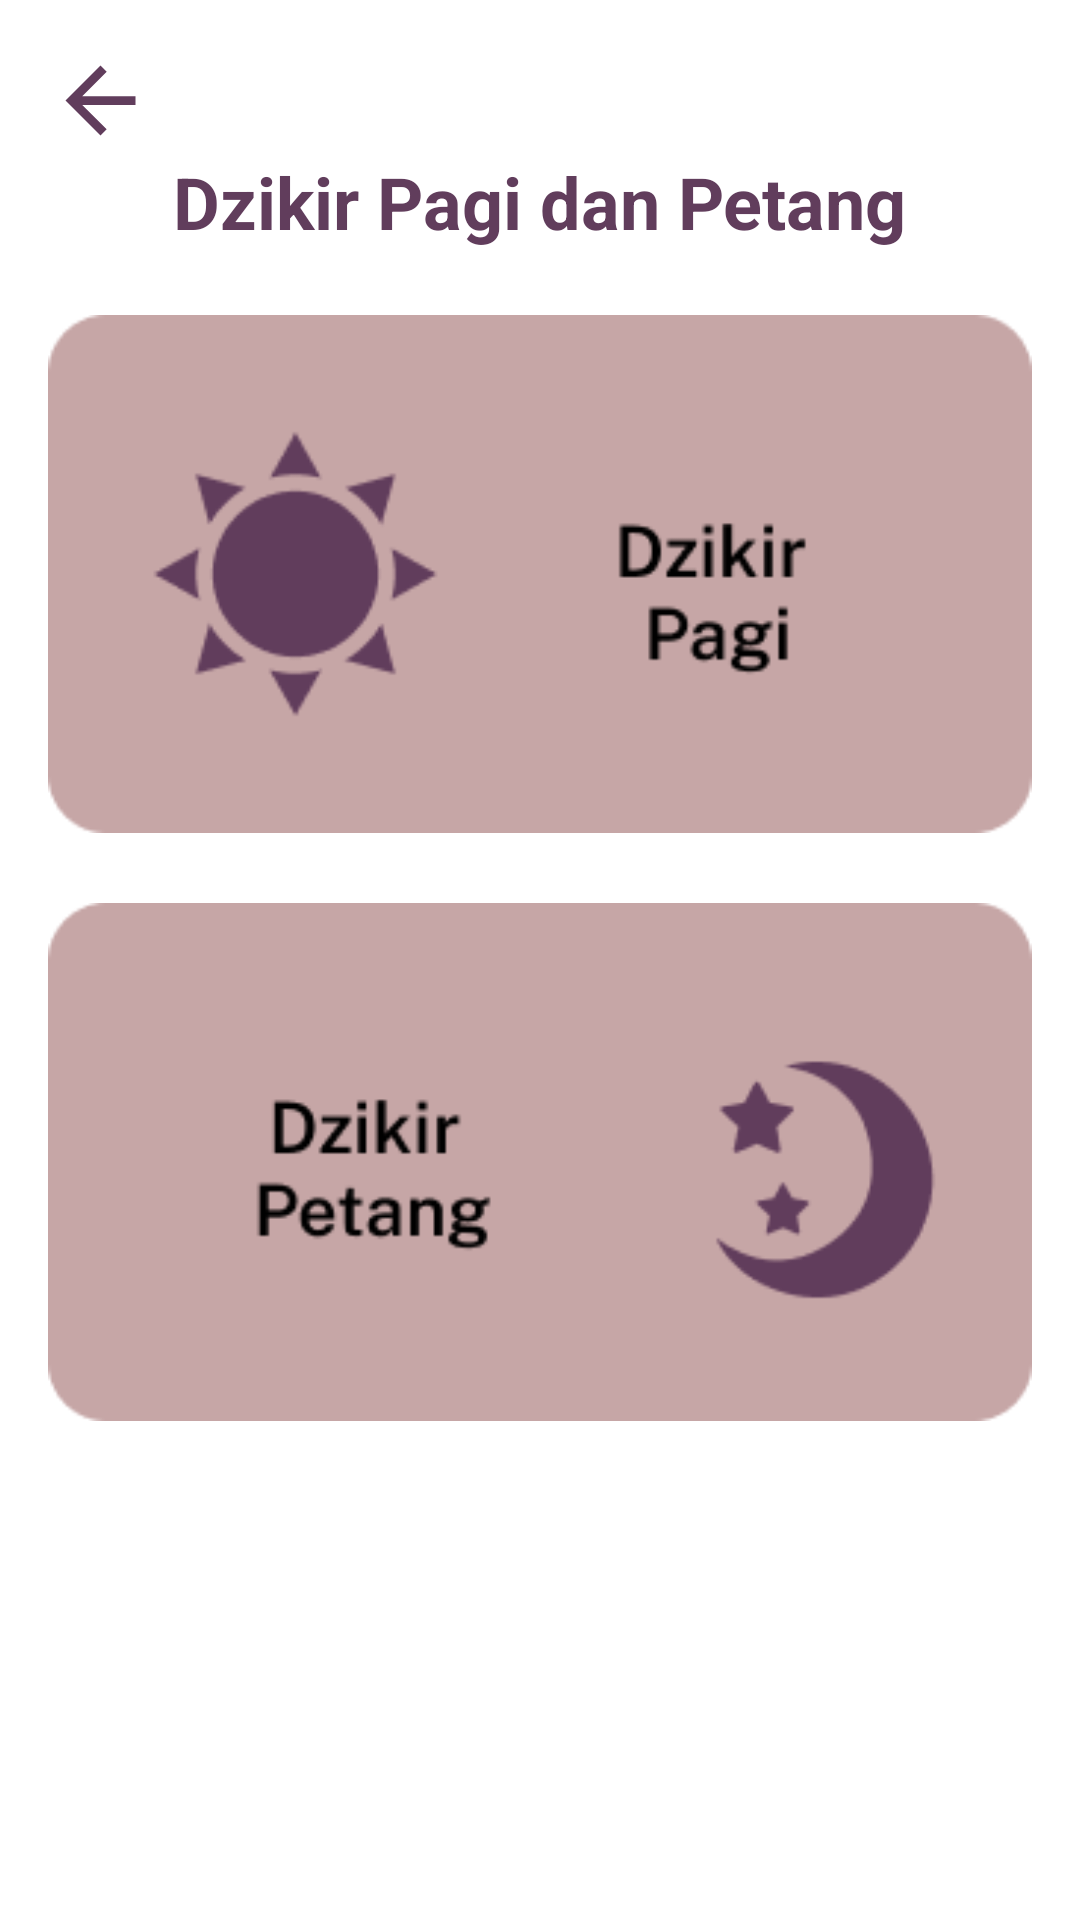

Icons on this 1080*1920 Android screen, each with the point to tap as (x=x, y=y):
back: (x=100, y=100)
